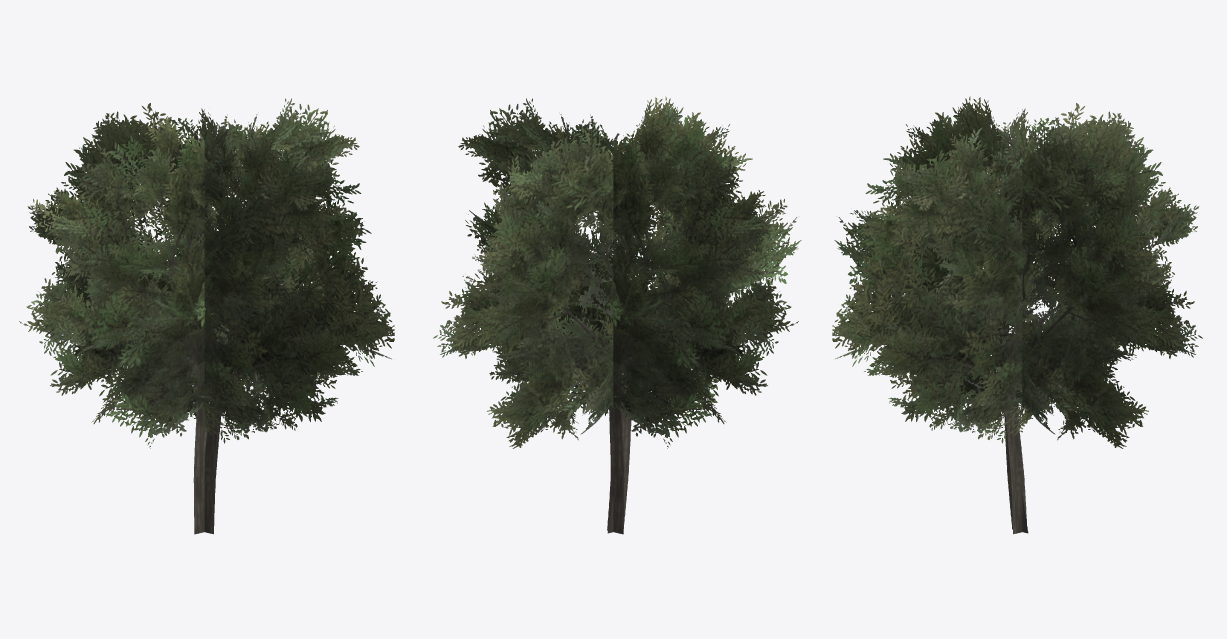
File: vrba_mlada_daleko.glb
3 views of the same model, side by side, from view 1: azimuth 30°, elevation 25°; view 2: azimuth 150°, elevation 25°; view 3: azimuth 270°, elevation 25° (orthographic).
Visible parts, largest first — view 1: vrba_mlada_daleko; view 2: vrba_mlada_daleko; view 3: vrba_mlada_daleko.
Boxes of the visible parts, x1=… form: vrba_mlada_daleko: x1=19, y1=98, x2=394, y2=534; vrba_mlada_daleko: x1=433, y1=96, x2=801, y2=534; vrba_mlada_daleko: x1=832, y1=96, x2=1202, y2=534.
Size of the model in its own units: 6.73 by 7.19 by 5.83.
Materials: 3 (3 with a texture image).
